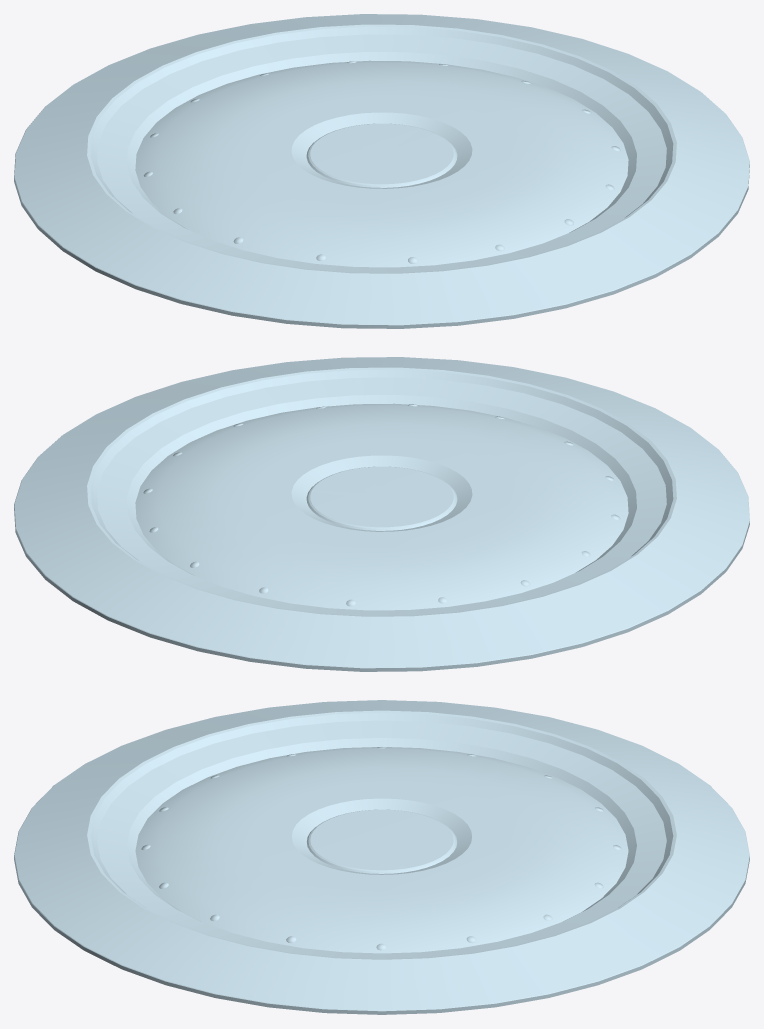
File: tf2_cappoint.fbx
3 renders of one model, top to bottom at view 1: azimuth 30°, elevation 25°; view 2: azimuth 150°, elevation 25°; view 3: azimuth 270°, elevation 25°, orthographic.
Visible parts, largest first — view 1: cap_point_base_reference; view 2: cap_point_base_reference; view 3: cap_point_base_reference.
Boxes of the visible parts, x1,y1,x2,y2 form: cap_point_base_reference: (14, 14, 749, 328); cap_point_base_reference: (14, 357, 749, 671); cap_point_base_reference: (14, 700, 749, 1014).
Size of the model in its own units: 20277 by 738 by 20277.
